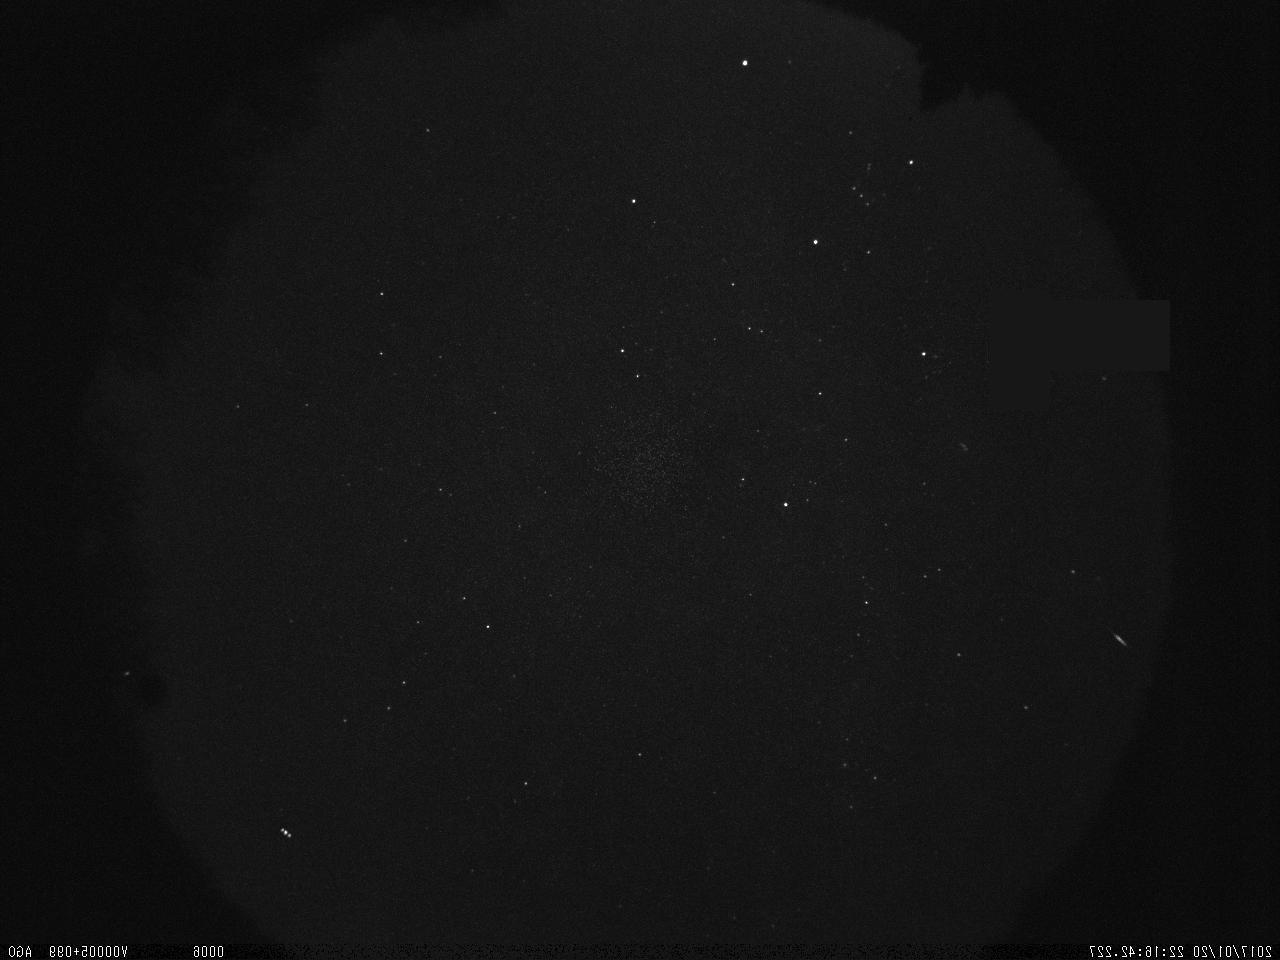meteor: (1106, 624, 1132, 652)
